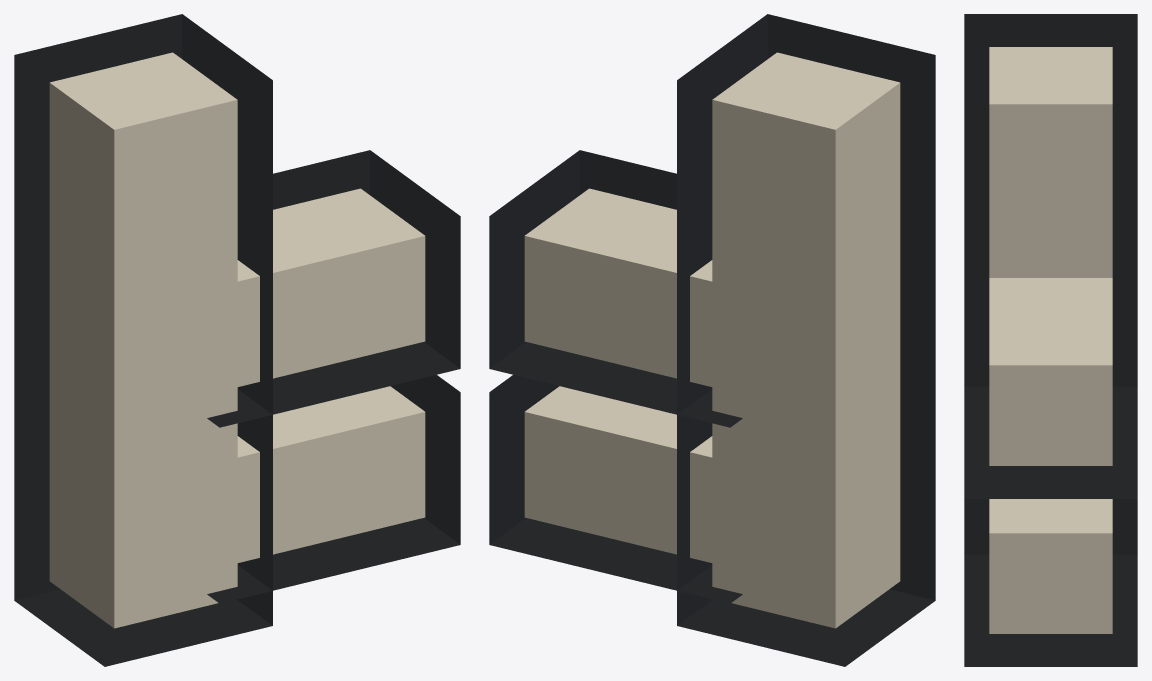
Rendered from REF_PrintKey_Half.glb.
The picture shows the model from 3 angles, left to right: view 1: azimuth 30°, elevation 25°; view 2: azimuth 150°, elevation 25°; view 3: azimuth 270°, elevation 25°; orthographic projection. The views are drawn at different scales.
Parts seen in each view (by area): view 1: REF_PrintKey_Half, REF_PrintKey_Half_Outline; view 2: REF_PrintKey_Half, REF_PrintKey_Half_Outline; view 3: REF_PrintKey_Half, REF_PrintKey_Half_Outline.
Boxes of the visible parts, left/top/right/bottom form: REF_PrintKey_Half: left=49, top=52, right=425, bottom=628; REF_PrintKey_Half_Outline: left=14, top=14, right=460, bottom=666; REF_PrintKey_Half: left=524, top=52, right=900, bottom=628; REF_PrintKey_Half_Outline: left=489, top=14, right=935, bottom=666; REF_PrintKey_Half: left=989, top=47, right=1112, bottom=633; REF_PrintKey_Half_Outline: left=964, top=14, right=1137, bottom=666.
Bounding box in the file's own units: 0.1334 × 0.1953 × 0.0588.
2 materials, 1 textured.
